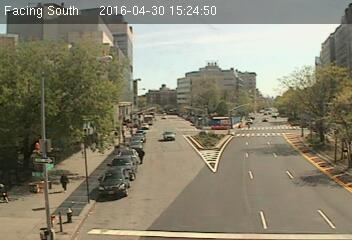neg: (43, 24, 62, 50), (82, 16, 96, 35), (267, 137, 280, 155), (334, 102, 347, 119), (209, 188, 222, 205), (171, 185, 183, 201), (305, 146, 317, 162), (209, 17, 220, 32), (182, 73, 193, 87), (99, 186, 109, 200), (156, 132, 166, 145), (237, 116, 247, 129), (335, 63, 345, 76), (61, 210, 70, 222), (187, 151, 195, 163), (235, 159, 243, 170), (288, 108, 296, 119), (116, 18, 124, 29), (156, 19, 164, 30), (72, 114, 80, 125), (309, 63, 317, 73), (226, 80, 233, 90), (147, 62, 153, 71)
pos: (54, 168, 71, 192), (134, 145, 147, 163)
